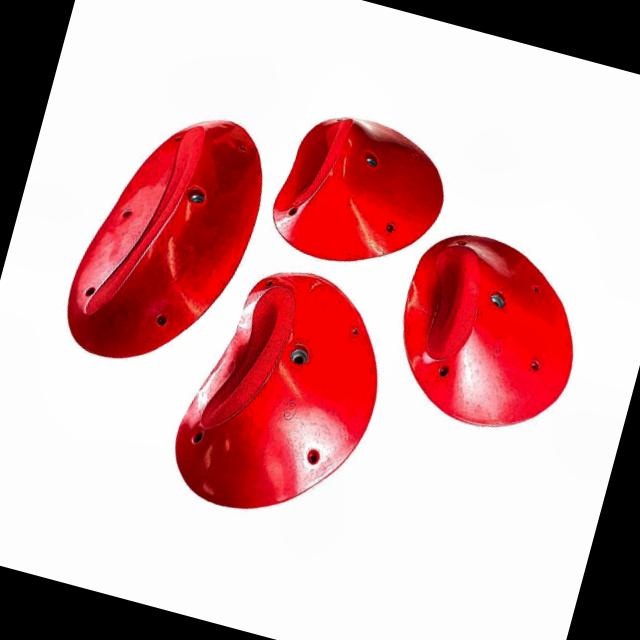Hold: (162, 250, 400, 536), (63, 101, 282, 382), (377, 214, 601, 446), (268, 98, 456, 282)
